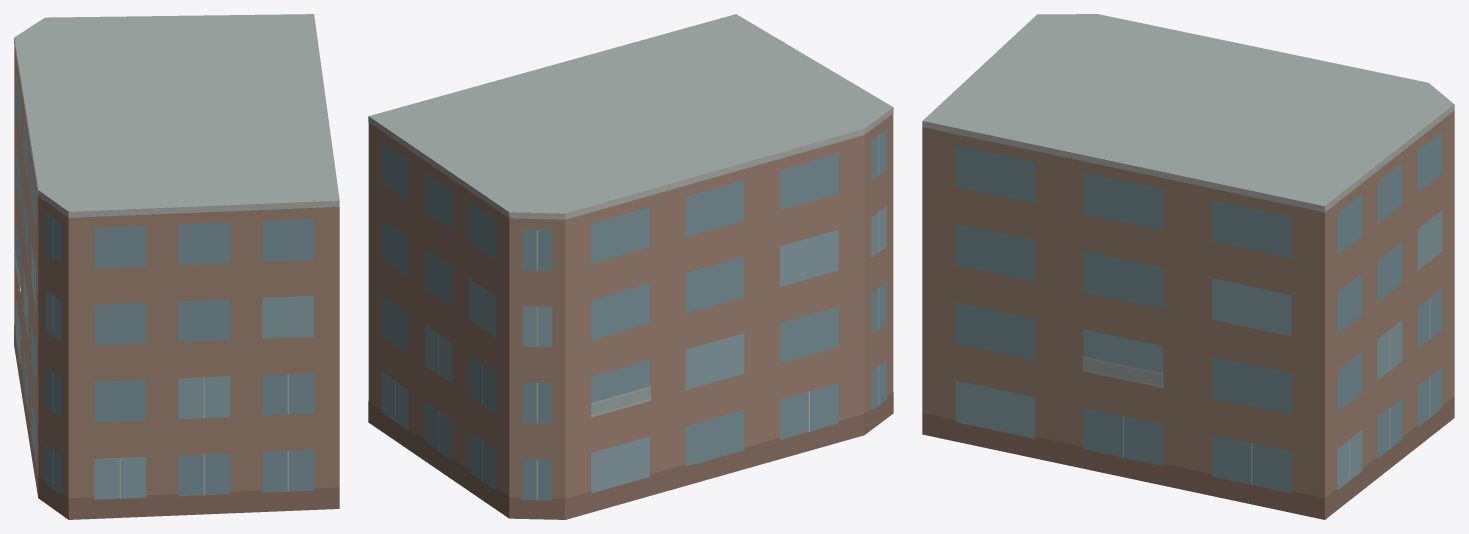
File: survey-upis-32706415.glb
3 views of the same model, side by side, from view 1: azimuth 30°, elevation 25°; view 2: azimuth 150°, elevation 25°; view 3: azimuth 270°, elevation 25° (orthographic). The views are drawn at different scales.
Visible parts, largest first — view 1: survey-upis-32706415.tmp; view 2: survey-upis-32706415.tmp; view 3: survey-upis-32706415.tmp.
Part boxes in pixels (left/top/right/bottom): survey-upis-32706415.tmp: left=14, top=14, right=339, bottom=519; survey-upis-32706415.tmp: left=368, top=14, right=893, bottom=519; survey-upis-32706415.tmp: left=922, top=14, right=1454, bottom=519.
Size of the model in its own units: 16.19 by 12.3 by 18.92.
